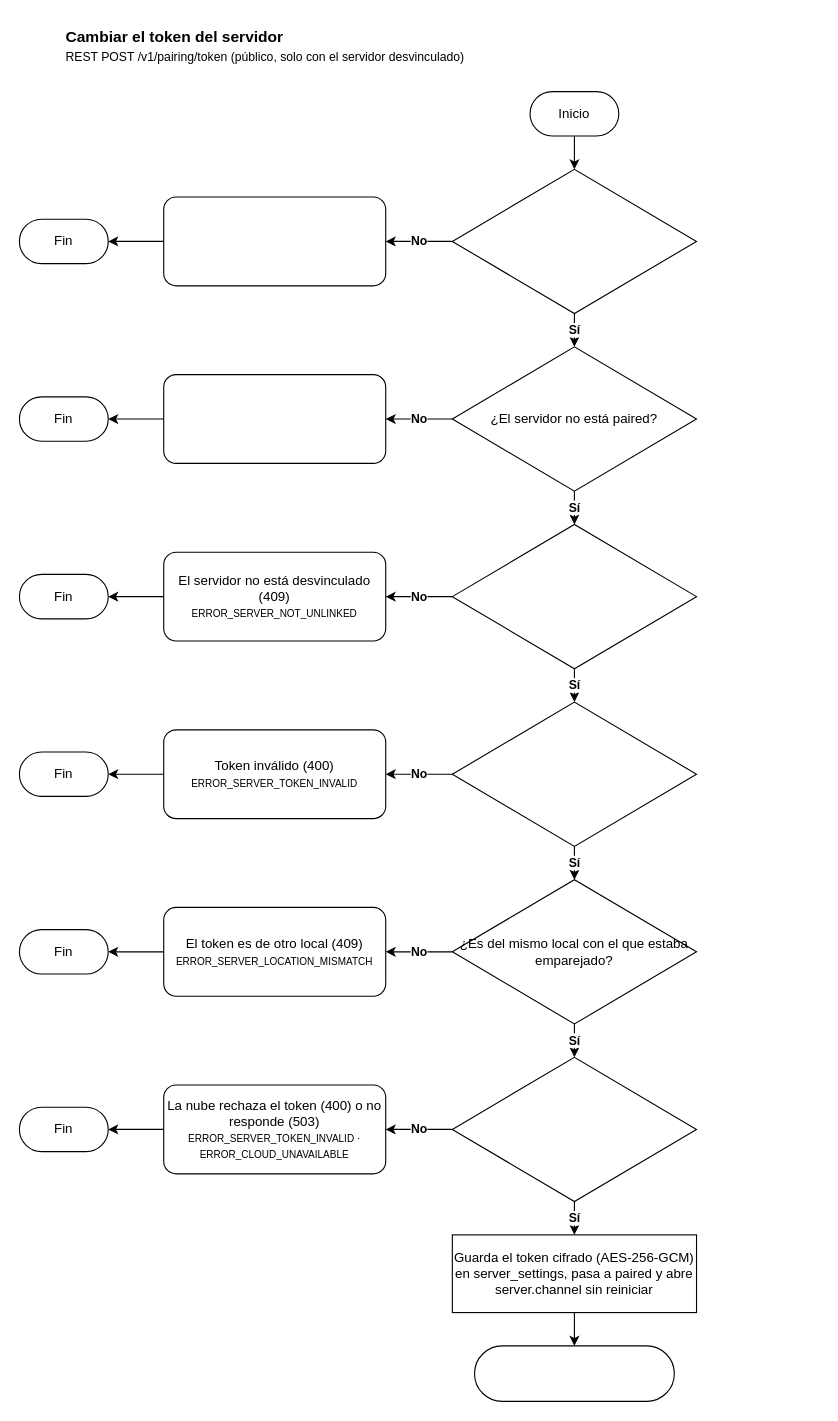
Some shapes in this 838 by 1421 pixel diagram are drawn without their labels. Here are the shapes that lost their labels. From the top down, the centre of each, then its label:
At point 274,241: "Datos inválidos (400) ERROR_BAD_REQUEST".
At point 574,241: "¿Los datos son válidos? (server_token)".
At point 274,418: "El servidor ya está emparejado (409) ERROR_SERVER_ALREADY_PAIRED".
At point 574,596: "¿Ya se había emparejado alguna vez (no está unpaired)?".
At point 574,773: "¿El token trae un location_id?".
At point 574,1129: "¿La nube acepta el token? (se prueba con server_product.server_products)".
At point 573,1373: "Responder 200 con TOKEN_REPLACED y el estado".
